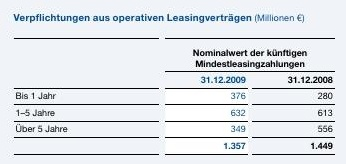table: (0, 0, 346, 164)
